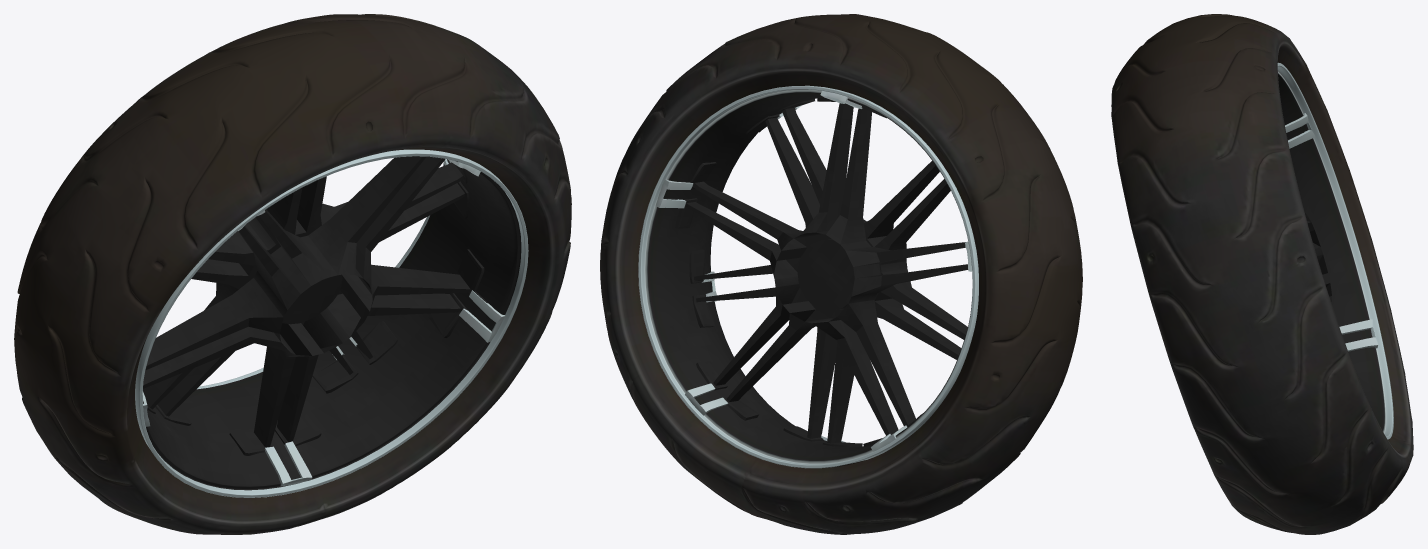
The model's file is ruota_post_240.glb.
3 views of the same model, side by side, from view 1: azimuth 30°, elevation 25°; view 2: azimuth 150°, elevation 25°; view 3: azimuth 270°, elevation 25° (orthographic). The views are drawn at different scales.
Visible parts, largest first — view 1: ricambio; view 2: ricambio; view 3: ricambio.
Boxes of the visible parts, x1,y1,x2,y2 form: ricambio: (14,14,571,534); ricambio: (600,14,1082,534); ricambio: (1111,14,1413,534).
Size of the model in its own units: 0.6299 by 0.6124 by 0.3567.
Materials: 3 (3 with a texture image).
